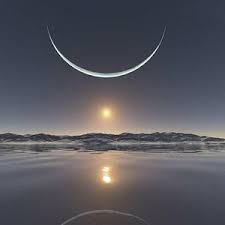moon: (45, 22, 168, 79)
